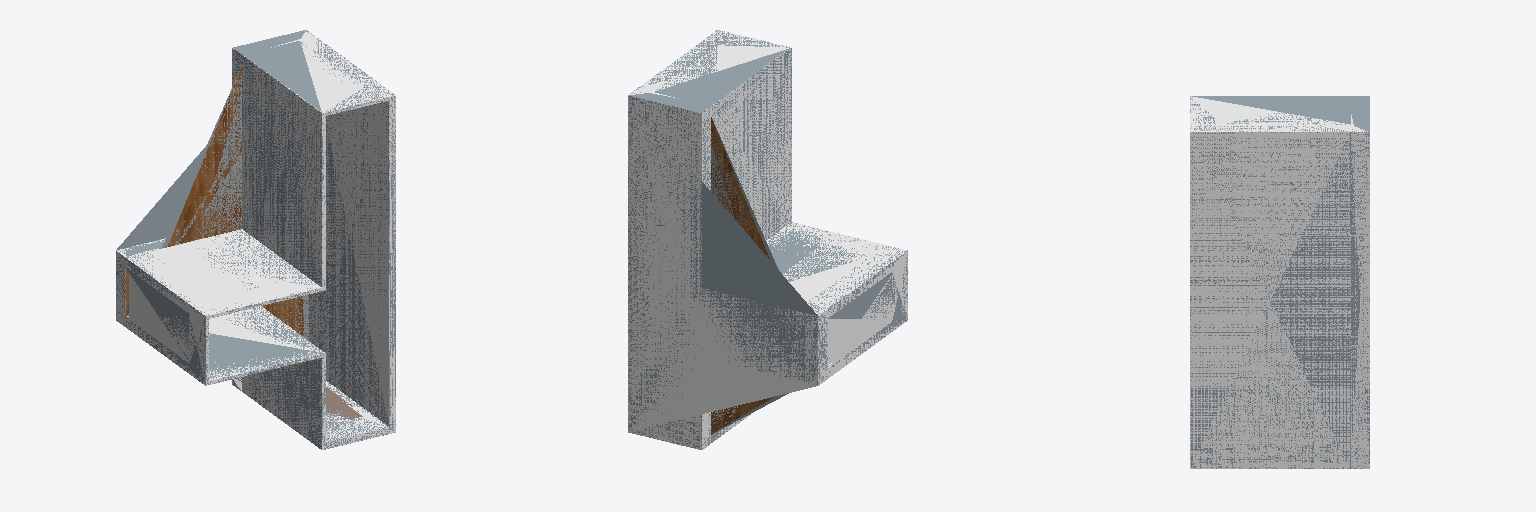
3 views of the same model, side by side, from view 1: azimuth 30°, elevation 25°; view 2: azimuth 150°, elevation 25°; view 3: azimuth 270°, elevation 25° (orthographic).
Parts seen in each view (by area): view 1: Mesh9 Model, Mesh6 Group4 Group2 Group1 Door_Wood1 Model; view 2: Mesh9 Model; view 3: Mesh9 Model.
Boxes of the visible parts, x1=… form: Mesh9 Model: x1=116, y1=30, x2=395, y2=449; Mesh6 Group4 Group2 Group1 Door_Wood1 Model: x1=326, y1=387, x2=362, y2=419; Mesh9 Model: x1=628, y1=30, x2=907, y2=449; Mesh9 Model: x1=1190, y1=96, x2=1369, y2=468.
Bounding box in the file's own units: 3.43 × 5.86 × 2.8.
Materials: 4 (1 with a texture image).